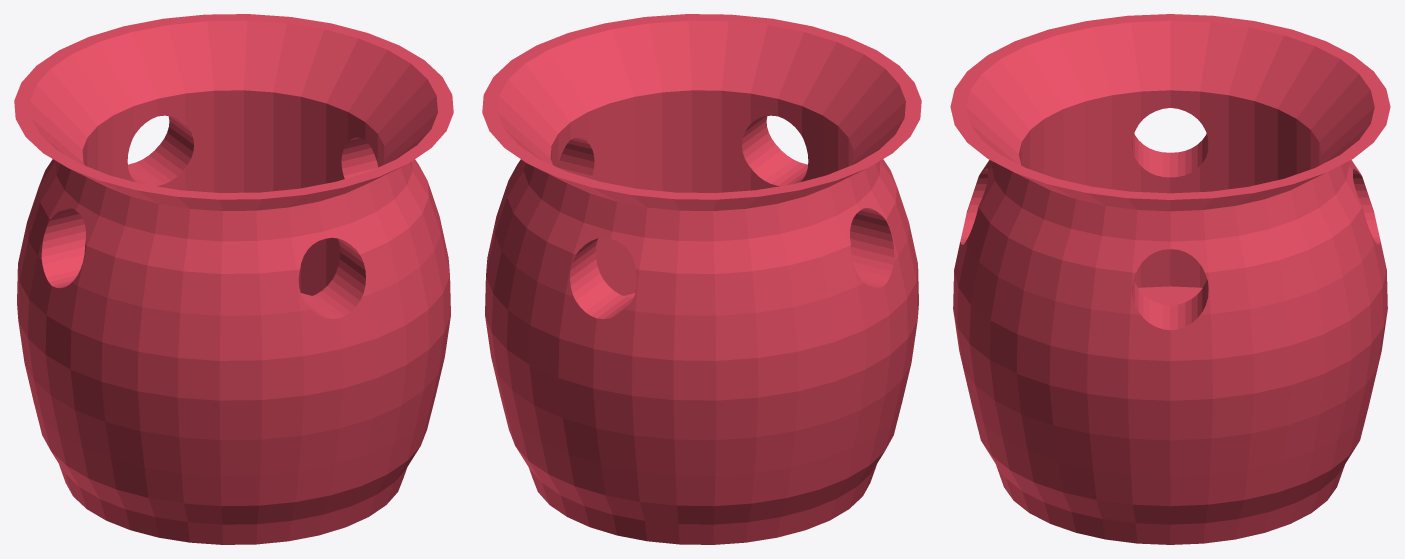
File: candleHolder.fbx
3 renders of one model, left to right at view 1: azimuth 30°, elevation 25°; view 2: azimuth 150°, elevation 25°; view 3: azimuth 270°, elevation 25°, orthographic.
Visible parts, largest first — view 1: Cylinder; view 2: Cylinder; view 3: Cylinder.
Boxes of the visible parts, x1=… form: Cylinder: x1=14, y1=14, x2=453, y2=544; Cylinder: x1=482, y1=14, x2=921, y2=544; Cylinder: x1=950, y1=14, x2=1390, y2=544.
Bounding box in the file's own units: 12.99 × 11.92 × 12.99.
